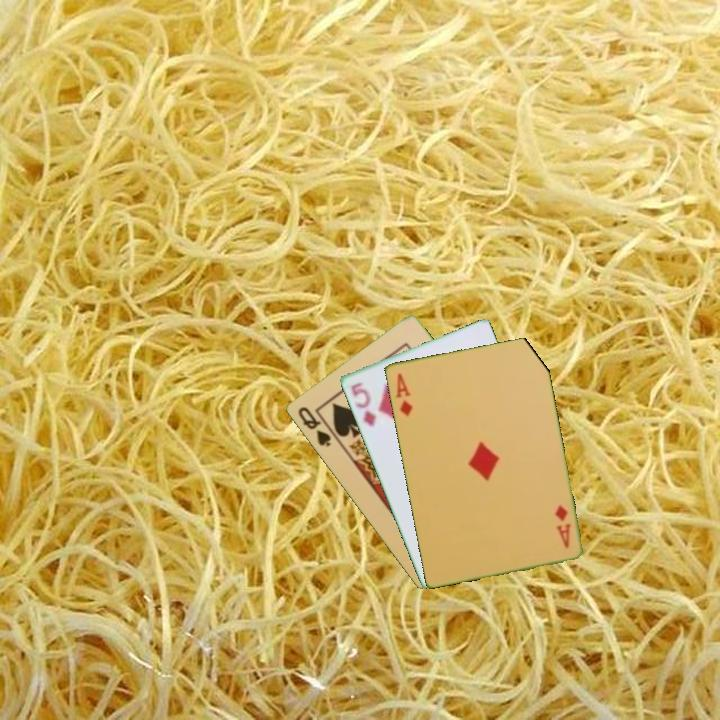5d: (347, 378, 379, 429)
Ad: (391, 369, 415, 419), (551, 501, 573, 551)
Qs: (294, 403, 334, 450)
